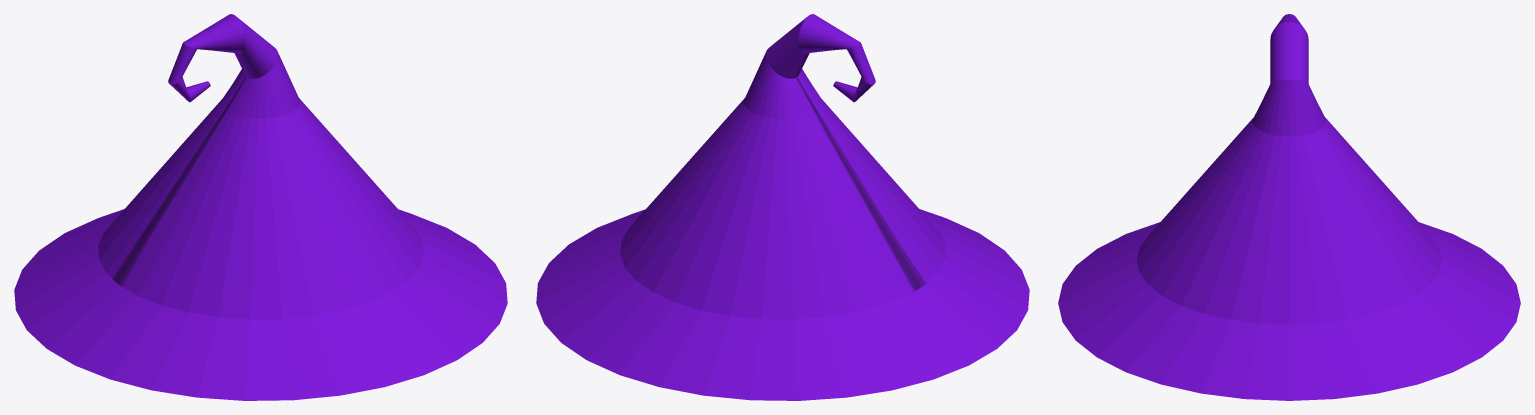
Rendered from witch_hat.glb.
3 views of the same model, side by side, from view 1: azimuth 30°, elevation 25°; view 2: azimuth 150°, elevation 25°; view 3: azimuth 270°, elevation 25° (orthographic). The views are drawn at different scales.
Visible parts, largest first — view 1: Cylinder; view 2: Cylinder; view 3: Cylinder.
Boxes of the visible parts, x1,y1,x2,y2 form: Cylinder: (14, 14, 507, 400); Cylinder: (536, 14, 1029, 400); Cylinder: (1058, 14, 1520, 400).
Bounding box in the file's own units: 3.18 × 2.04 × 3.18.
1 material, 1 textured.
